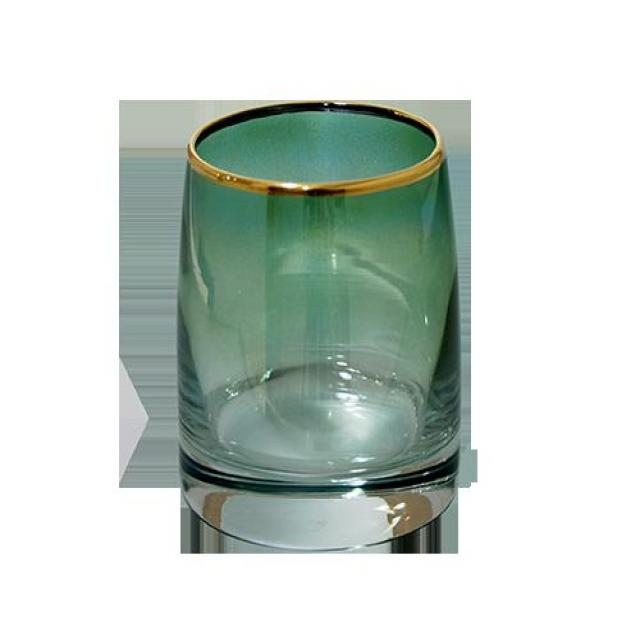non-organic waste: (154, 90, 472, 556)
